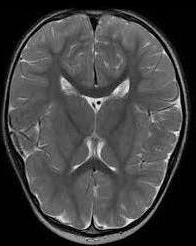Normal_Brain: (1, 1, 196, 246)
